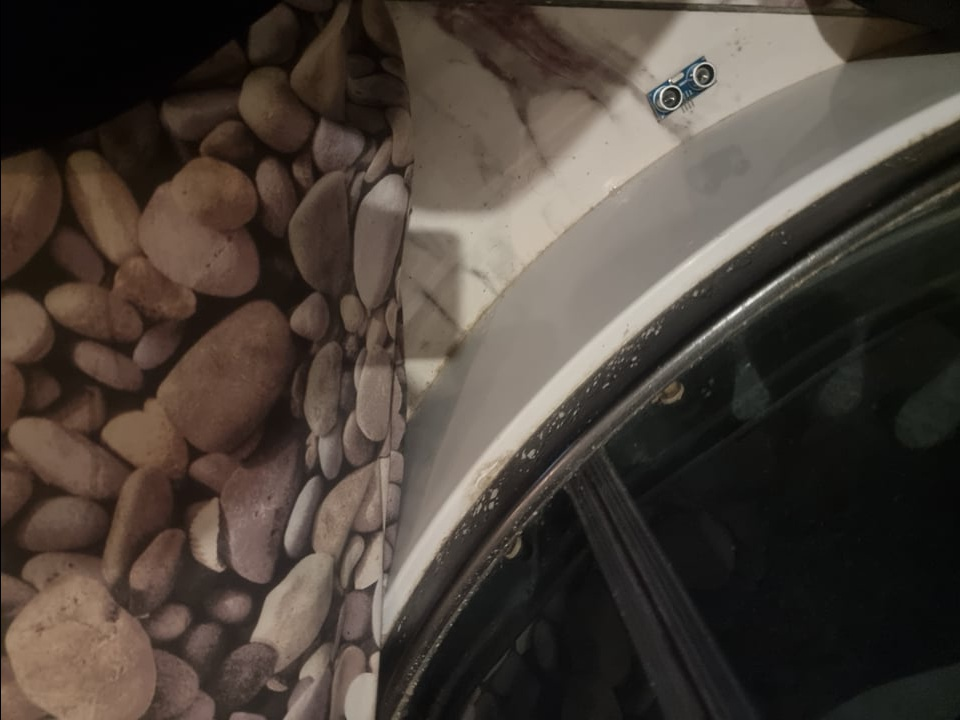SENSOR: (646, 54, 718, 122)
